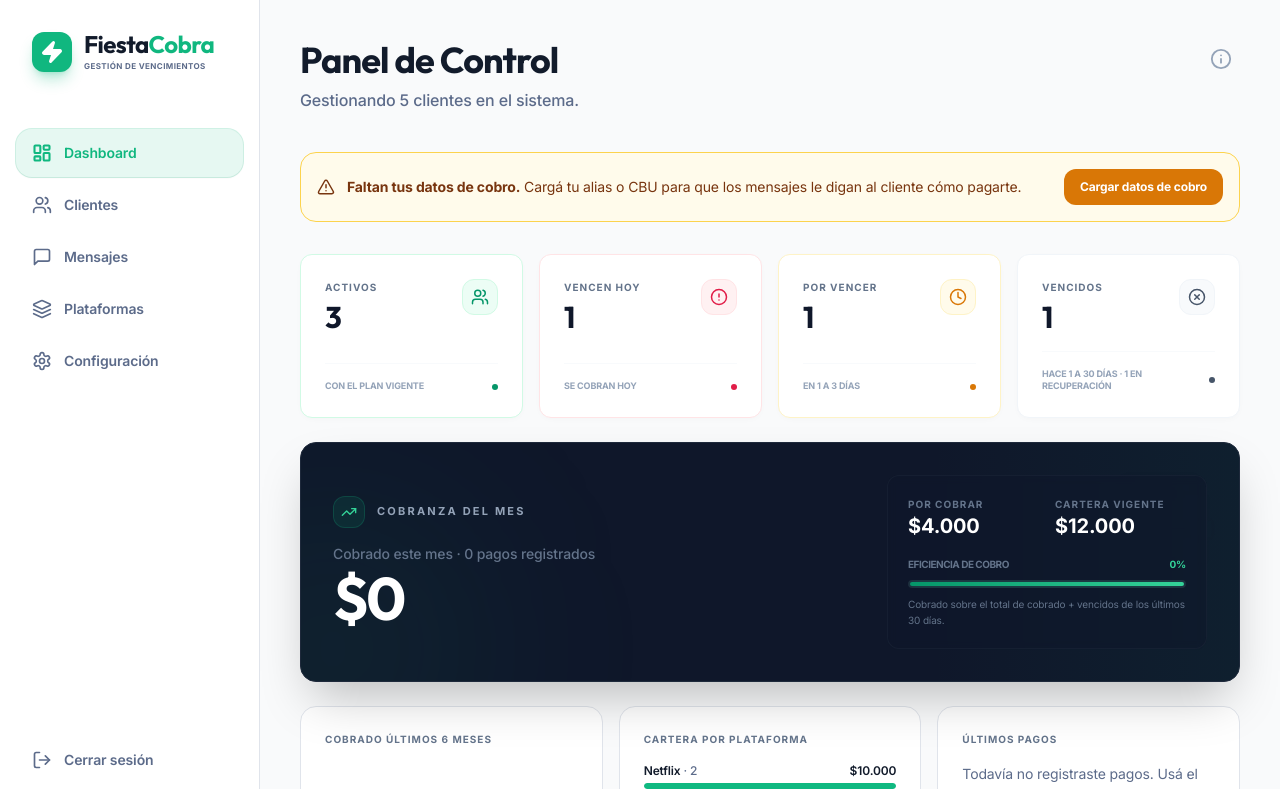
Test: gestión de clientes › busca por nombre sin distinguir mayúsculas
The width and height of the screenshot is (1280, 789).
Expected: the heading "Panel de Control" is shown, top-left (300, 37), bottom-right (558, 82)
Click the button "Clientes": (130, 205) top-left (16, 181), bottom-right (243, 229)
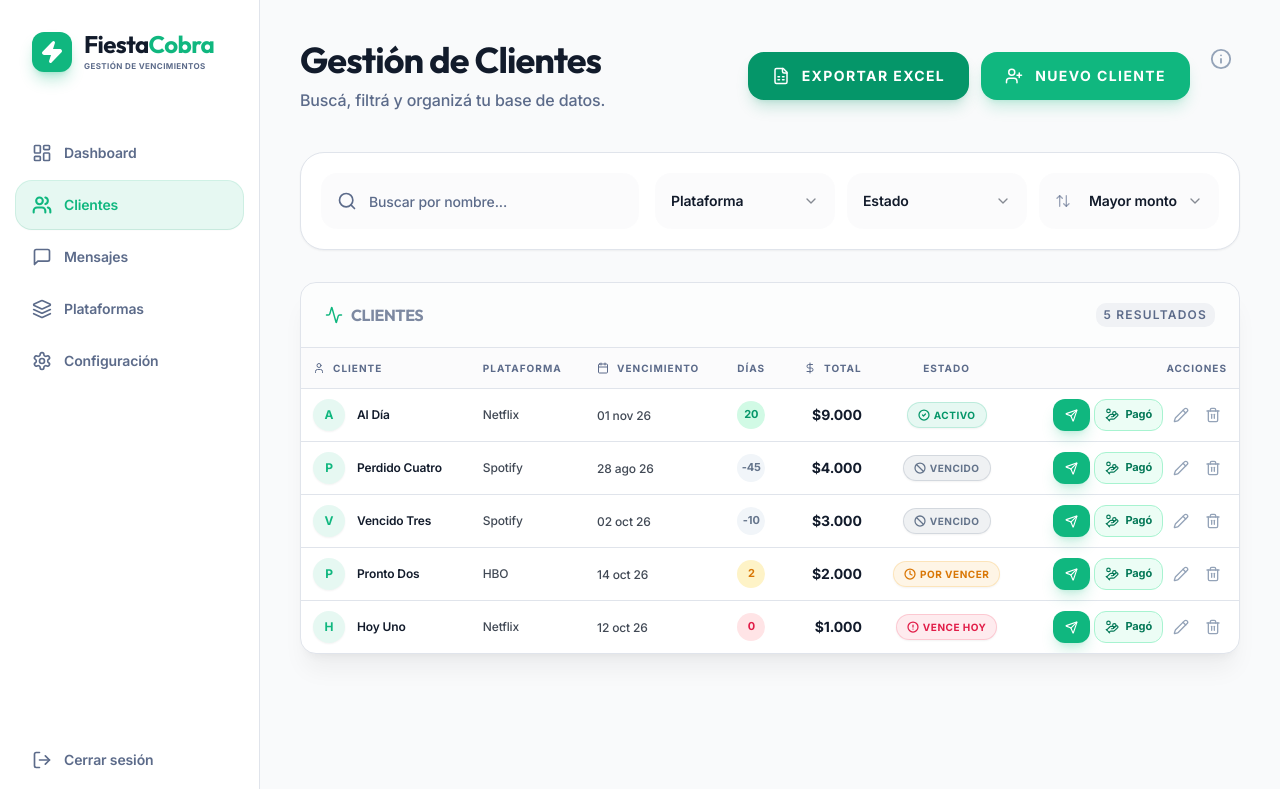
Expected: the button "Al Día" is shown, top-left (357, 407), bottom-right (390, 423)
In the field with placeholder "Buscar por nombre...": (480, 201) top-left (321, 173), bottom-right (639, 229), type "venc"
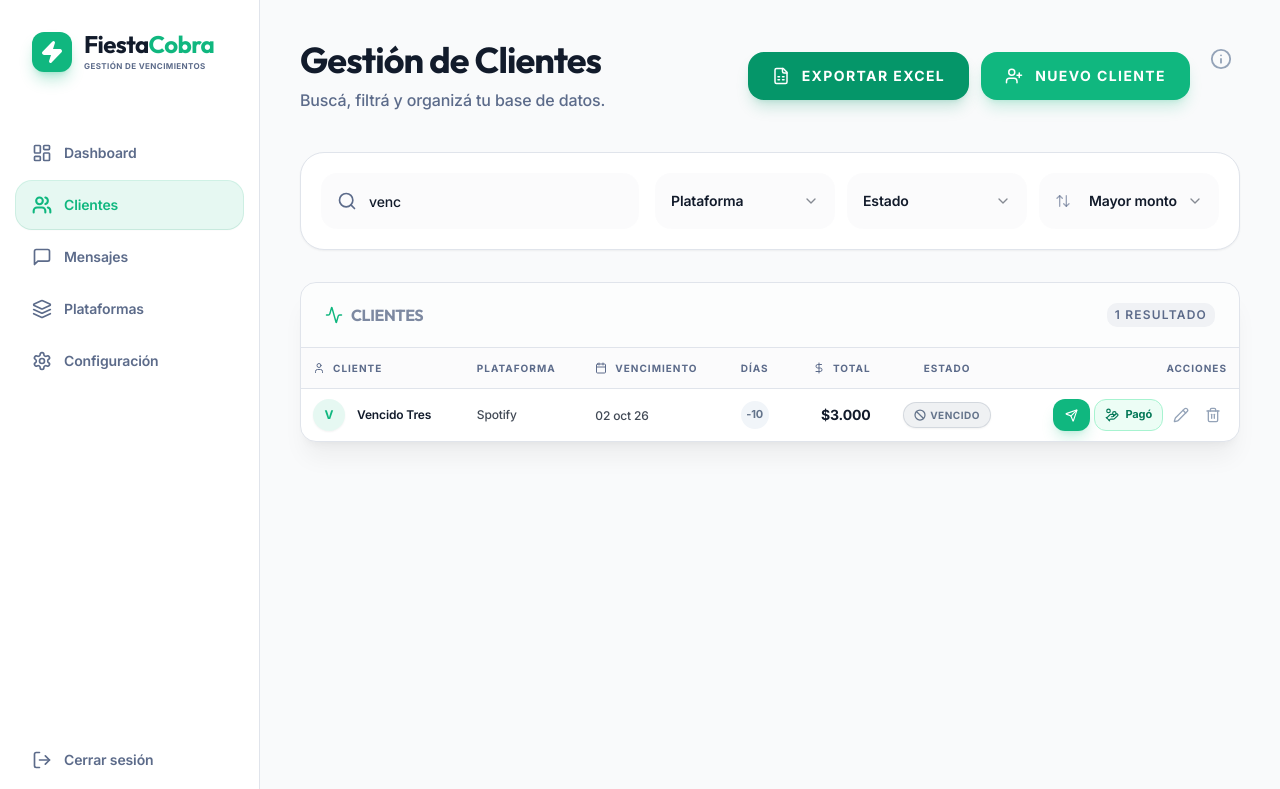
Expected: the button "Vencido Tres" is shown, top-left (357, 407), bottom-right (431, 423)
Expected: the button "Al Día" is gone
Replace the text in the field with placeholder "Buscar por nombre..." with "zzz": (480, 201) top-left (321, 173), bottom-right (639, 229)
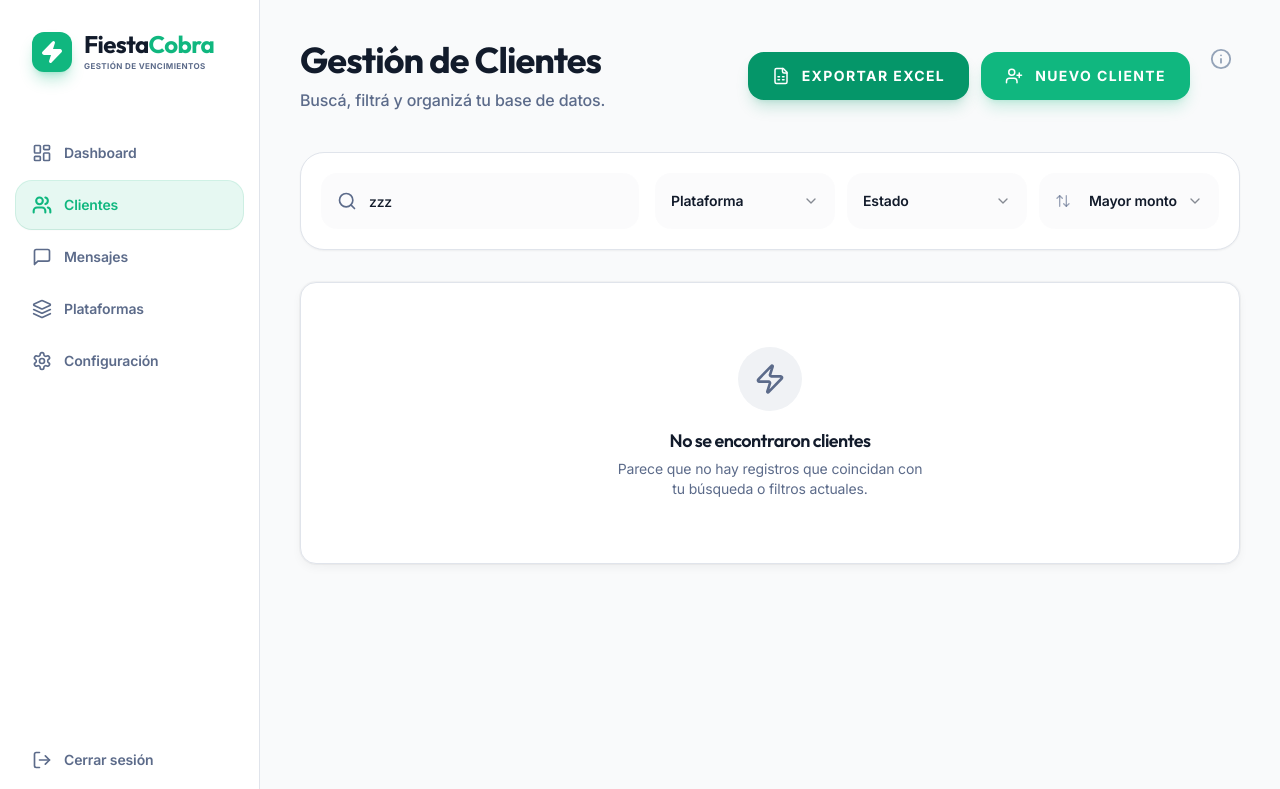
Expected: the heading "No se encontraron clientes" is shown, top-left (670, 429), bottom-right (870, 452)
